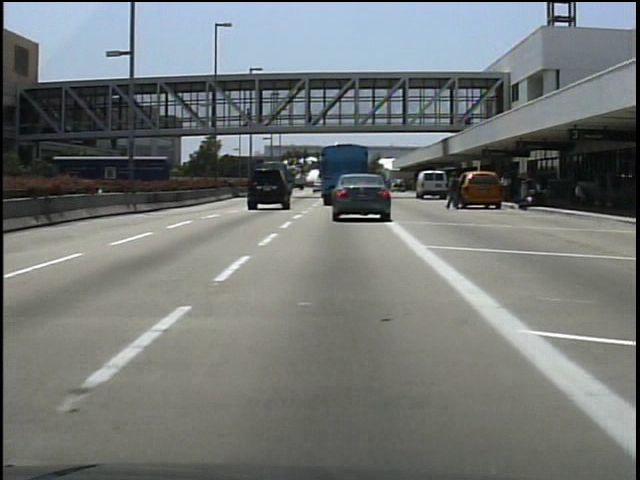person: (446, 174, 466, 217), (303, 107, 317, 135), (240, 105, 256, 128)
